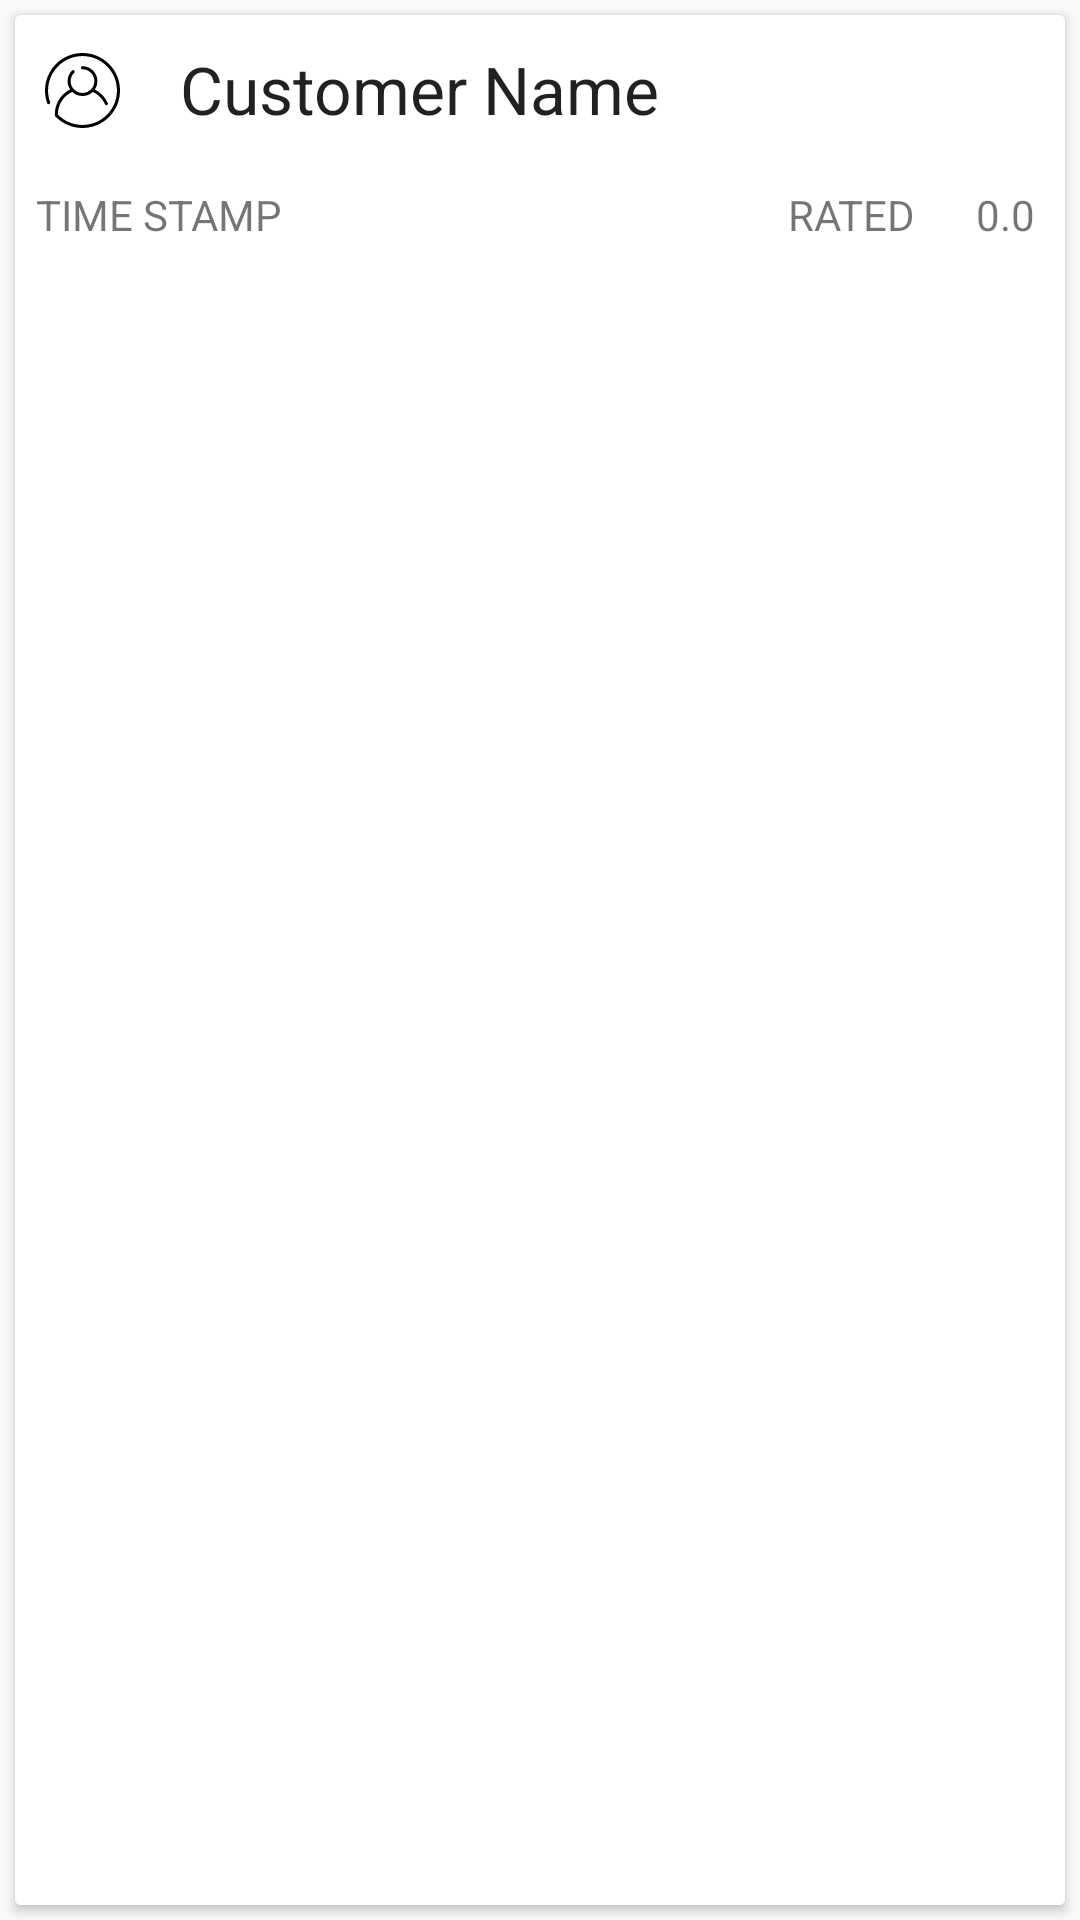

Where icons sit on this 1080px×1920px app screen, as bbox=(x1, y1, x2, y2):
user: bbox=(45, 53, 120, 128)
